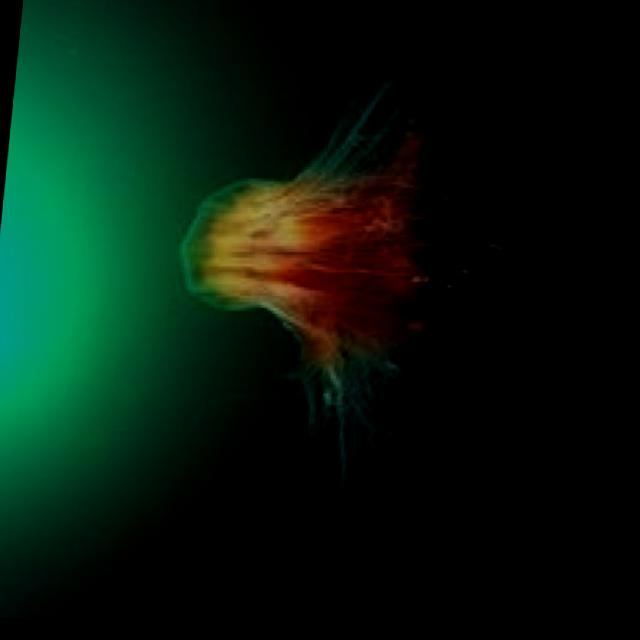Box-jellyfish: (146, 0, 576, 598)
